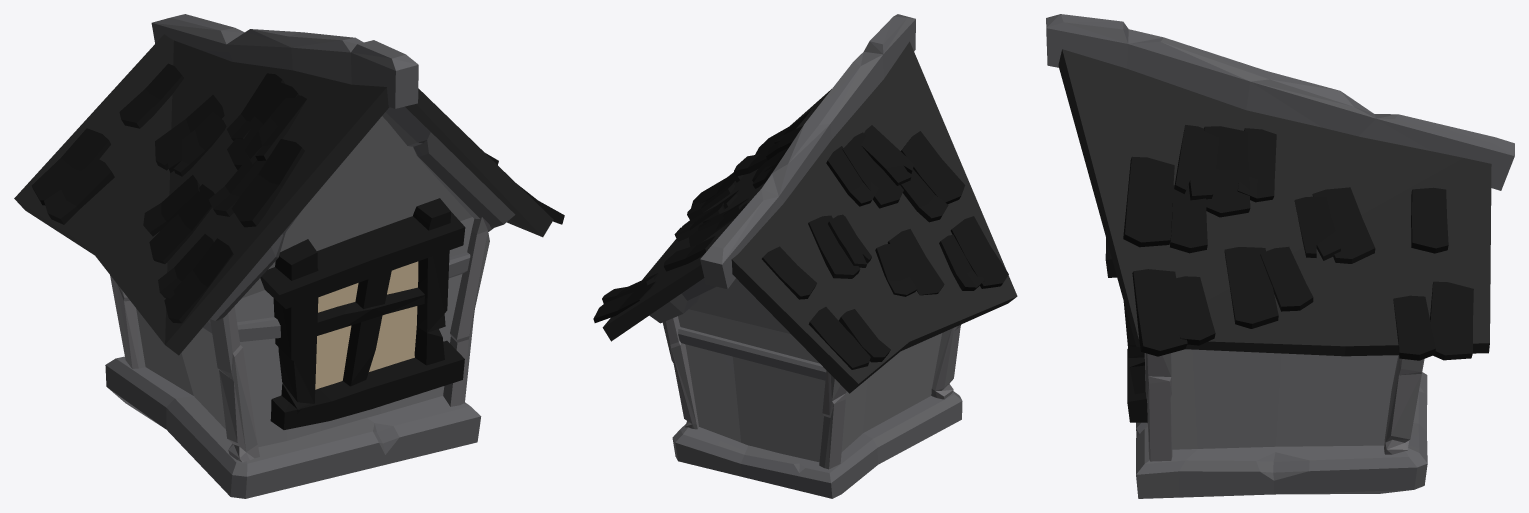
Rendered from WF_LP_HT_Build_Window.001.fbx.
3 views of the same model, side by side, from view 1: azimuth 30°, elevation 25°; view 2: azimuth 150°, elevation 25°; view 3: azimuth 270°, elevation 25° (orthographic). The views are drawn at different scales.
Visible parts, largest first — view 1: WF_LP_HT_Build_Window.001; view 2: WF_LP_HT_Build_Window.001; view 3: WF_LP_HT_Build_Window.001.
Boxes of the visible parts, x1,y1,x2,y2 form: WF_LP_HT_Build_Window.001: (14, 14, 564, 498); WF_LP_HT_Build_Window.001: (593, 14, 1017, 498); WF_LP_HT_Build_Window.001: (1046, 14, 1514, 498).
Size of the model in its own units: 1.64 by 1.76 by 1.73.
